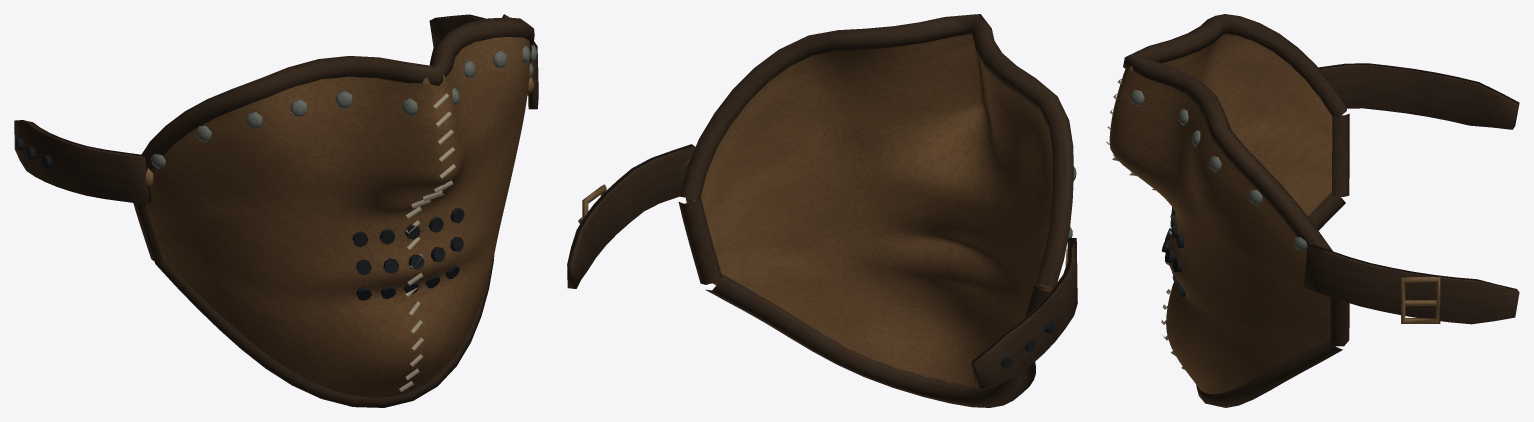
3 views of the same model, side by side, from view 1: azimuth 30°, elevation 25°; view 2: azimuth 150°, elevation 25°; view 3: azimuth 270°, elevation 25° (orthographic). The views are drawn at different scales.
Parts seen in each view (by area): view 1: tanned leather, oiled strap leather, recess and lining, weathered plate, waxed linen thread; view 2: tanned leather, oiled strap leather; view 3: tanned leather, oiled strap leather, aged alloy edge, weathered plate, recess and lining.
Boxes of the visible parts, left/top/right/bottom form: tanned leather: left=146, top=37, right=530, bottom=397; oiled strap leather: left=14, top=14, right=538, bottom=407; recess and lining: left=15, top=138, right=464, bottom=300; weathered plate: left=151, top=45, right=537, bottom=168; waxed linen thread: left=399, top=93, right=455, bottom=391; tanned leather: left=685, top=34, right=1052, bottom=386; oiled strap leather: left=567, top=14, right=1077, bottom=407; tanned leather: left=1109, top=34, right=1332, bottom=394; oiled strap leather: left=1123, top=14, right=1519, bottom=407; aged alloy edge: left=1305, top=261, right=1440, bottom=323; weathered plate: left=1130, top=89, right=1307, bottom=250; recess and lining: left=1162, top=207, right=1185, bottom=297.
Size of the model in its own units: 0.1782 by 0.1307 by 0.1445.
6 materials, 5 textured.
